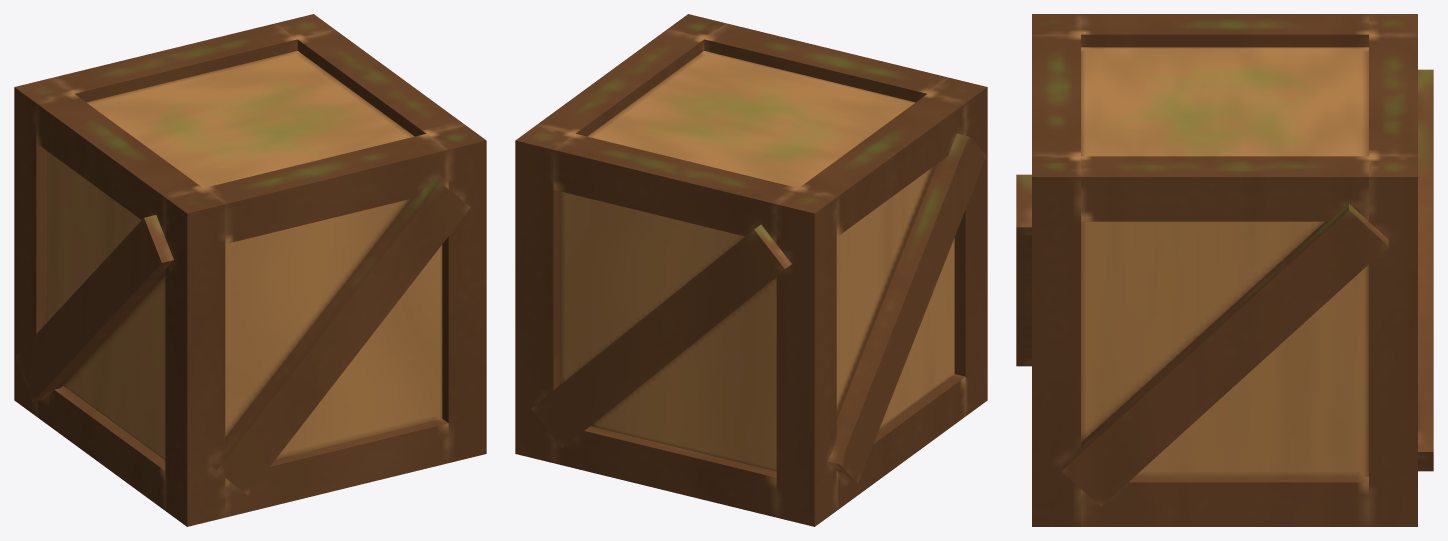
Rendered from Kit_Props_CrateSmall.fbx.
3 renders of one model, left to right at view 1: azimuth 30°, elevation 25°; view 2: azimuth 150°, elevation 25°; view 3: azimuth 270°, elevation 25°, orthographic. The views are drawn at different scales.
Parts seen in each view (by area): view 1: Kit_Props_CrateSmall_LOD0; view 2: Kit_Props_CrateSmall_LOD0; view 3: Kit_Props_CrateSmall_LOD0.
Boxes of the visible parts, x1,y1,x2,y2 form: Kit_Props_CrateSmall_LOD0: (14,14,486,526); Kit_Props_CrateSmall_LOD0: (515,14,987,526); Kit_Props_CrateSmall_LOD0: (1016,14,1433,526).
Size of what is drawn, in the model's own units: 0.595 by 0.55 by 0.595.
Materials: 1 (1 with a texture image).
